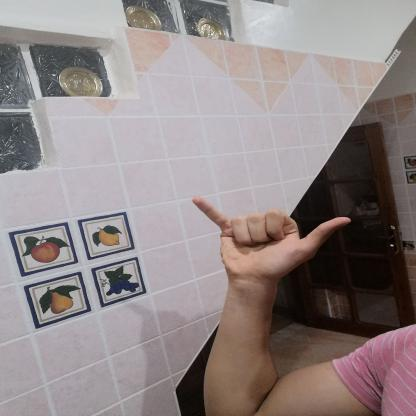YA: (178, 186, 364, 292)
